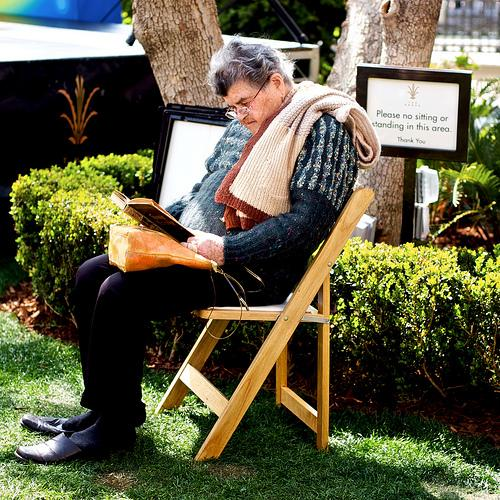person: (13, 44, 381, 468)
